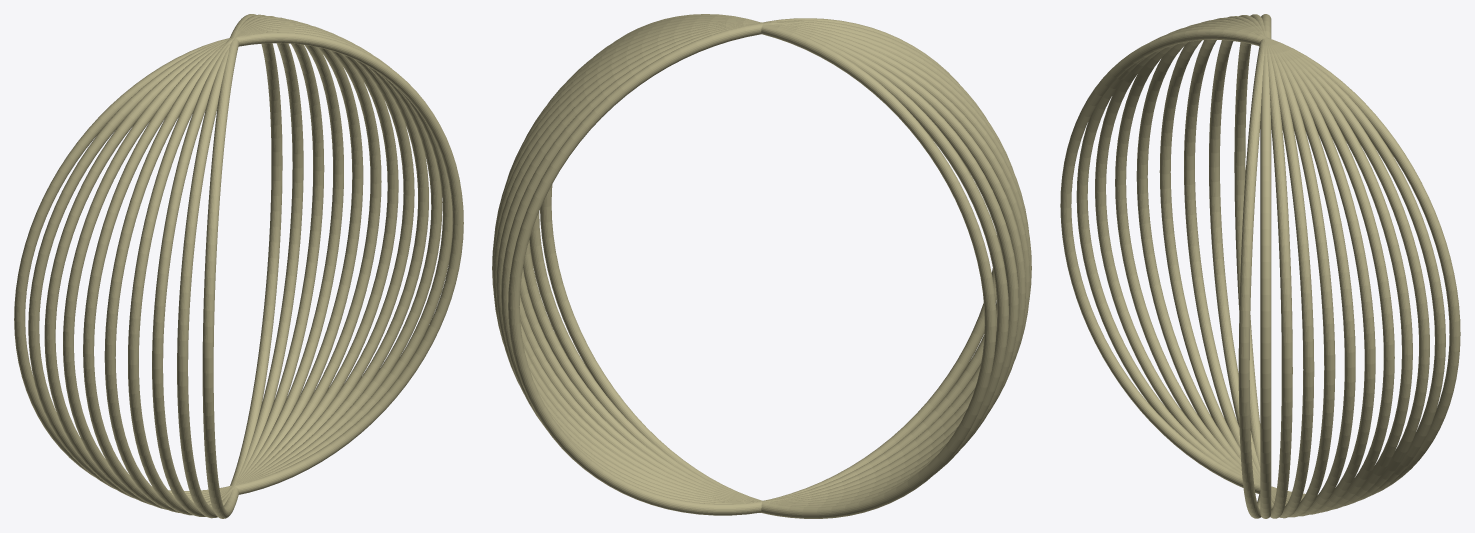
The picture shows the model from 3 angles, left to right: view 1: azimuth 30°, elevation 25°; view 2: azimuth 150°, elevation 25°; view 3: azimuth 270°, elevation 25°; orthographic projection. The views are drawn at different scales.
Visible parts, largest first — view 1: Torus021, Torus009, Torus006, Torus005, Torus007, Torus004, Torus003, Torus008, Torus002, Torus001, Torus010, Torus015 (+10 smaller); view 2: Torus010, Torus, Torus001, Torus002, Torus003, Torus021, Torus011, Torus020, Torus004, Torus012, Torus019, Torus009 (+10 smaller); view 3: Torus009, Torus021, Torus016, Torus015, Torus014, Torus017, Torus020, Torus013, Torus019, Torus018, Torus006, Torus007 (+9 smaller).
Boxes of the visible parts, x1=… form: Torus021: x1=235, y1=32, x2=463, y2=494; Torus009: x1=202, y1=38, x2=239, y2=518; Torus006: x1=128, y1=37, x2=234, y2=515; Torus005: x1=104, y1=41, x2=229, y2=512; Torus007: x1=152, y1=43, x2=235, y2=516; Torus004: x1=83, y1=43, x2=228, y2=509; Torus003: x1=63, y1=39, x2=228, y2=504; Torus008: x1=177, y1=47, x2=231, y2=518; Torus002: x1=44, y1=42, x2=227, y2=498; Torus001: x1=28, y1=37, x2=231, y2=495; Torus010: x1=230, y1=14, x2=282, y2=487; Torus015: x1=229, y1=20, x2=381, y2=488; Torus010: x1=508, y1=23, x2=765, y2=515; Torus: x1=761, y1=26, x2=996, y2=518; Torus001: x1=762, y1=24, x2=1008, y2=507; Torus002: x1=771, y1=26, x2=1018, y2=505; Torus003: x1=769, y1=24, x2=1025, y2=503; Torus021: x1=540, y1=14, x2=762, y2=500; Torus011: x1=501, y1=23, x2=759, y2=503; Torus020: x1=529, y1=16, x2=769, y2=506; Torus004: x1=771, y1=24, x2=1030, y2=502; Torus012: x1=496, y1=23, x2=756, y2=502; Torus019: x1=523, y1=17, x2=769, y2=503; Torus009: x1=759, y1=18, x2=999, y2=512; Torus009: x1=1060, y1=28, x2=1263, y2=493; Torus021: x1=1238, y1=40, x2=1264, y2=518; Torus016: x1=1266, y1=40, x2=1355, y2=516; Torus015: x1=1263, y1=38, x2=1375, y2=514; Torus014: x1=1262, y1=38, x2=1394, y2=512; Torus017: x1=1265, y1=39, x2=1335, y2=517; Torus020: x1=1260, y1=39, x2=1271, y2=518; Torus013: x1=1269, y1=41, x2=1412, y2=509; Torus019: x1=1263, y1=39, x2=1292, y2=518; Torus018: x1=1266, y1=42, x2=1314, y2=518; Torus006: x1=1115, y1=21, x2=1266, y2=480; Torus007: x1=1095, y1=24, x2=1260, y2=483.
Bounding box in the file's own units: 2.61 × 2.61 × 2.07.
